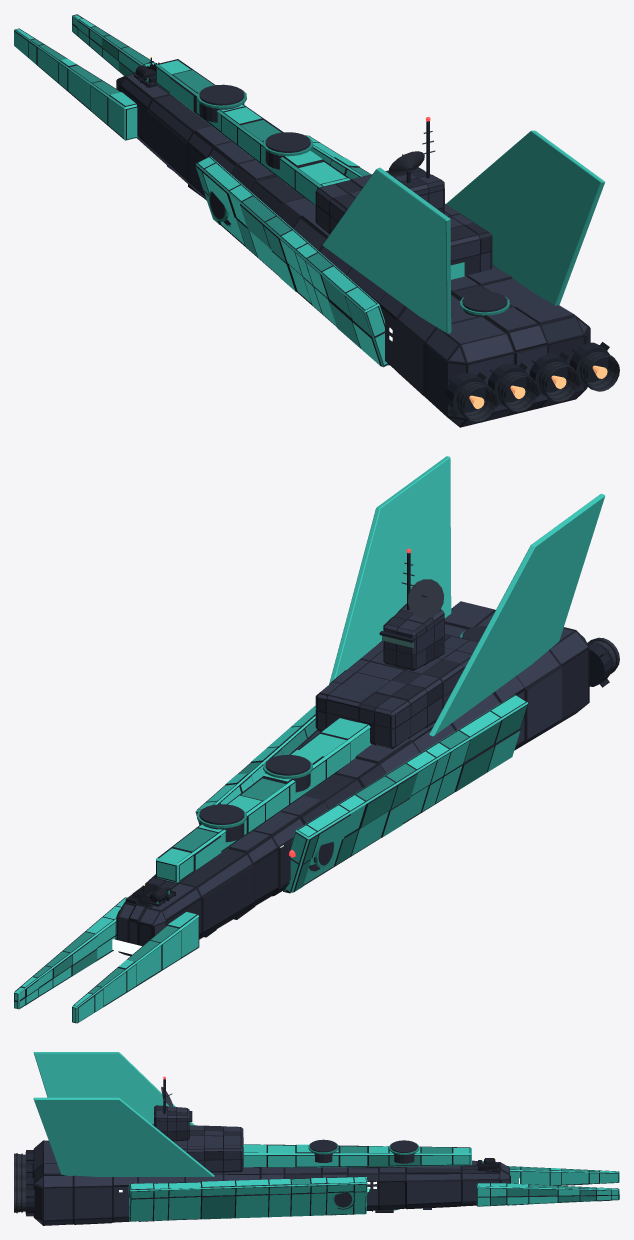
File: harbinger.glb
3 renders of one model, top to bottom at view 1: azimuth 30°, elevation 25°; view 2: azimuth 150°, elevation 25°; view 3: azimuth 270°, elevation 25°, orthographic. The views are drawn at different scales.
Parts seen in each view (by area): view 1: harbinger_mesh, radar_mesh; view 2: harbinger_mesh, radar_mesh; view 3: harbinger_mesh.
Boxes of the visible parts, bbox=[...] form: harbinger_mesh: bbox=[14, 14, 619, 427]; radar_mesh: bbox=[388, 151, 424, 182]; harbinger_mesh: bbox=[14, 456, 619, 1023]; radar_mesh: bbox=[408, 579, 443, 618]; harbinger_mesh: bbox=[14, 1052, 619, 1225].
Size of the model in its own units: 10.18 by 13.36 by 53.43.
